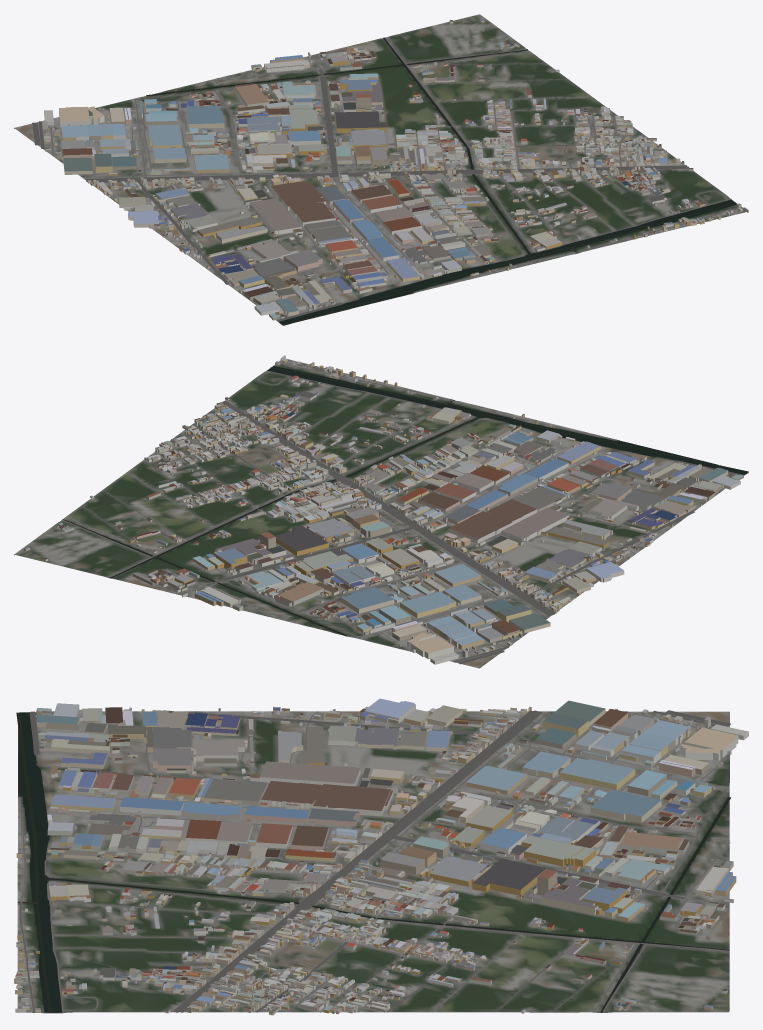
3 renders of one model, top to bottom at view 1: azimuth 30°, elevation 25°; view 2: azimuth 150°, elevation 25°; view 3: azimuth 270°, elevation 25°, orthographic. The views are drawn at different scales.
Visible parts, largest first — view 1: buildings, ground, roads, water; view 2: buildings, ground, roads, water; view 3: buildings, ground, roads, water.
Boxes of the visible parts, left/top/right/bottom form: buildings: left=42, top=18, right=748, bottom=320; ground: left=14, top=14, right=746, bottom=325; roads: left=32, top=37, right=741, bottom=321; water: left=146, top=37, right=736, bottom=325; buildings: left=24, top=355, right=743, bottom=664; ground: left=14, top=358, right=748, bottom=668; roads: left=62, top=363, right=743, bottom=664; water: left=62, top=366, right=748, bottom=636; buildings: left=14, top=698, right=748, bottom=1015; ground: left=17, top=711, right=729, bottom=1013; roads: left=17, top=710, right=731, bottom=1012; water: left=16, top=712, right=731, bottom=1012.
Size of the model in its own units: 1450 by 46 by 1446.
